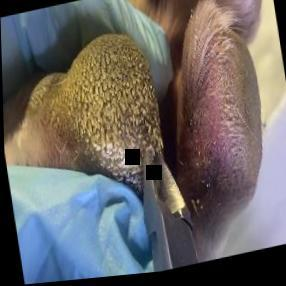keratosis: (20, 26, 170, 214)
